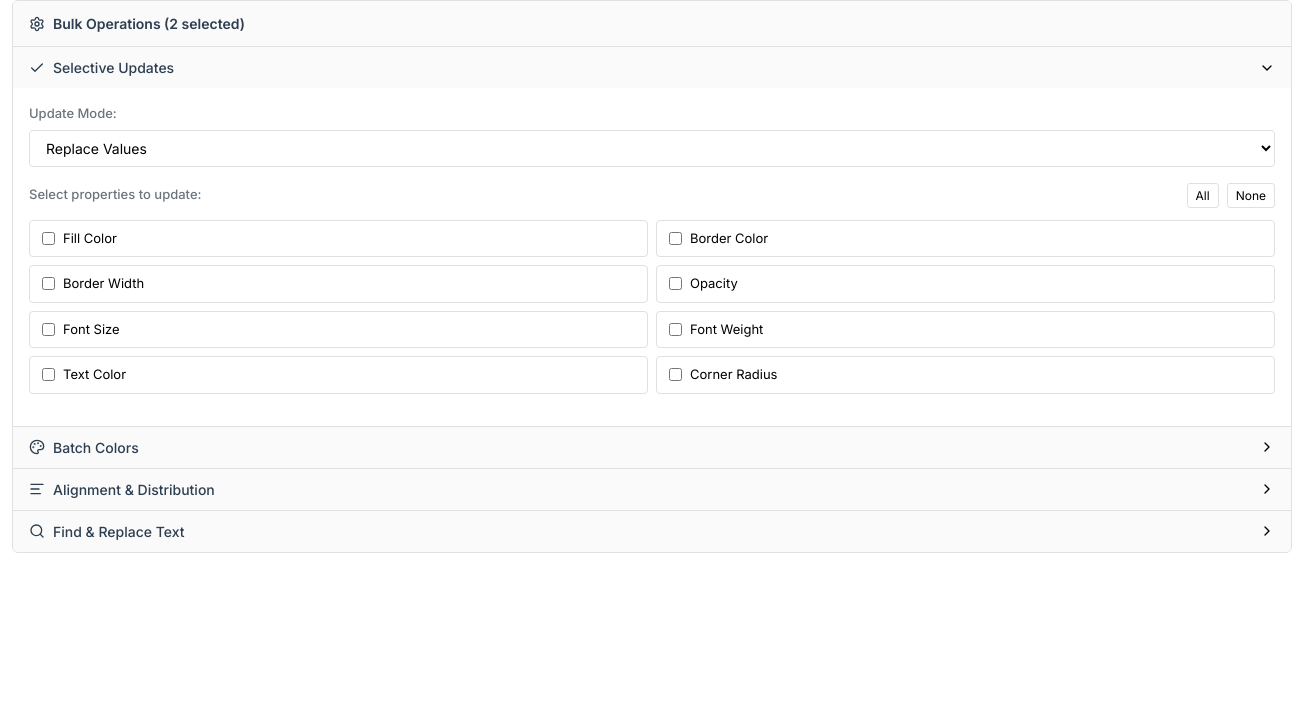
BulkStyleControls › Section Management › should expand and collapse sections
Expected: the text "Update Mode:" is shown, [29, 105, 117, 121]
# Collapse selective updates
Click the button "Selective Updates".
click(114, 68)  # box [13, 47, 1291, 88]
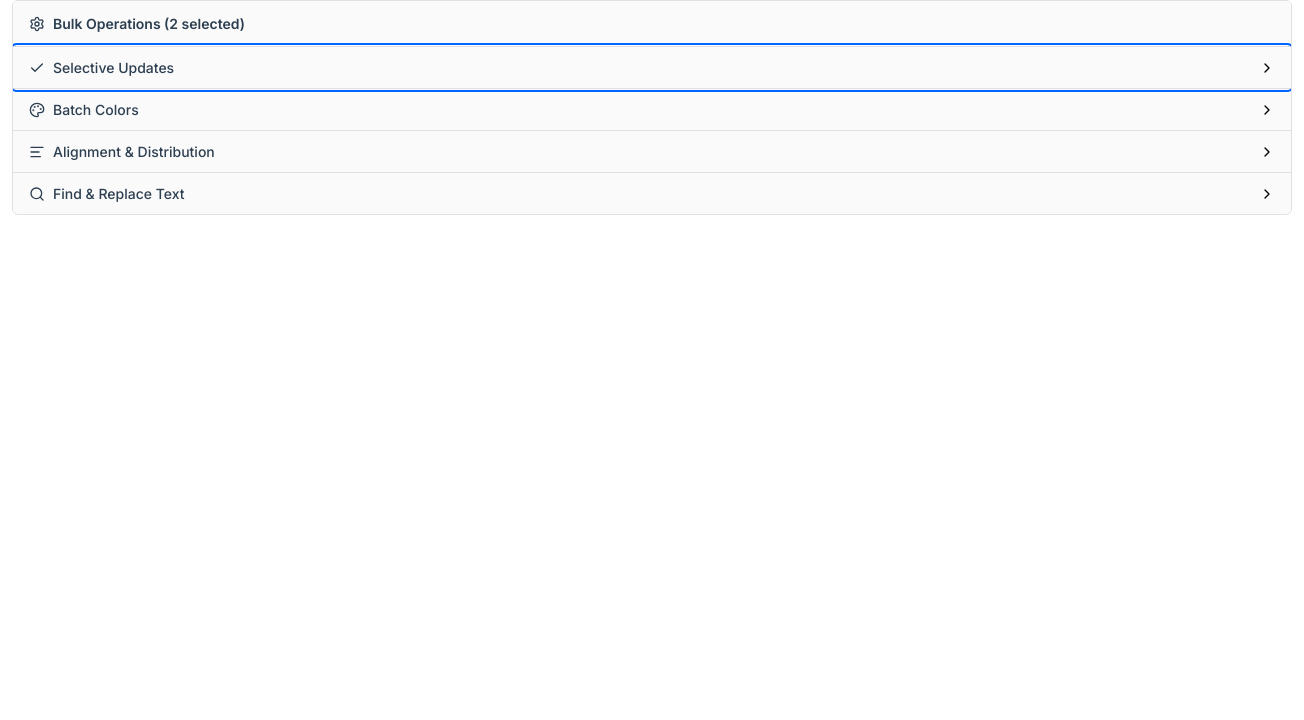
Now the text "Update Mode:" is gone
